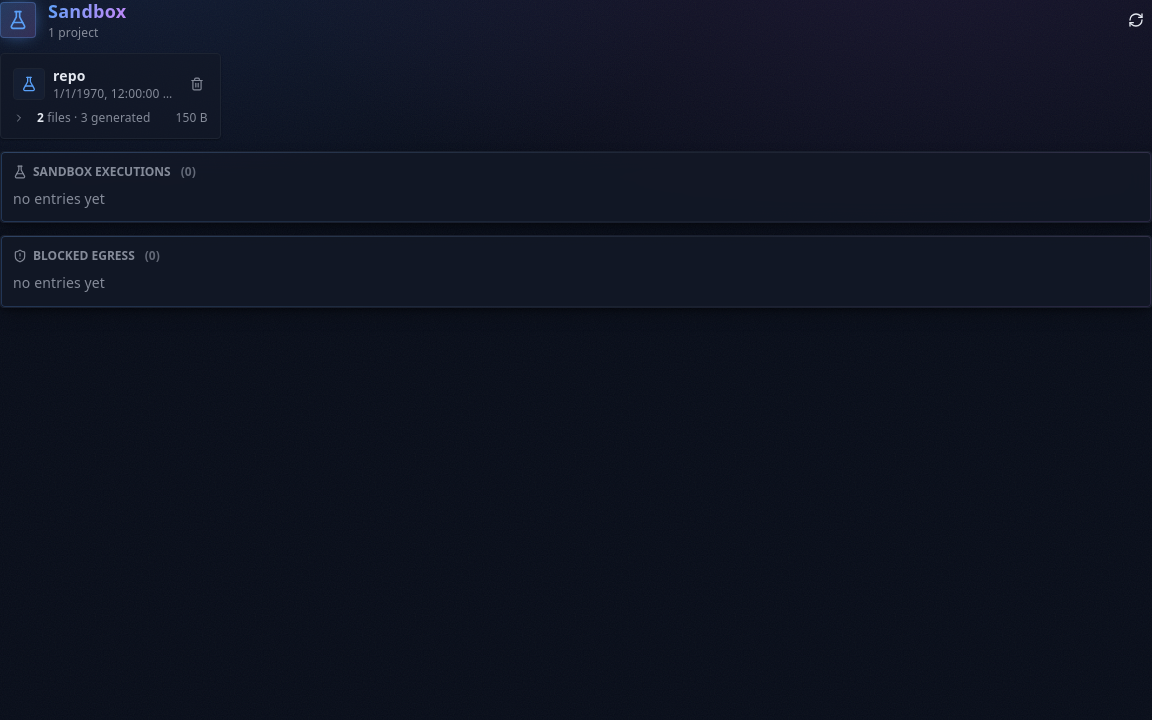
Test: Sandbox file browser › filters the file list
Click the button "repo" at {"x": 115, "y": 76}, box [53,66,178,86]
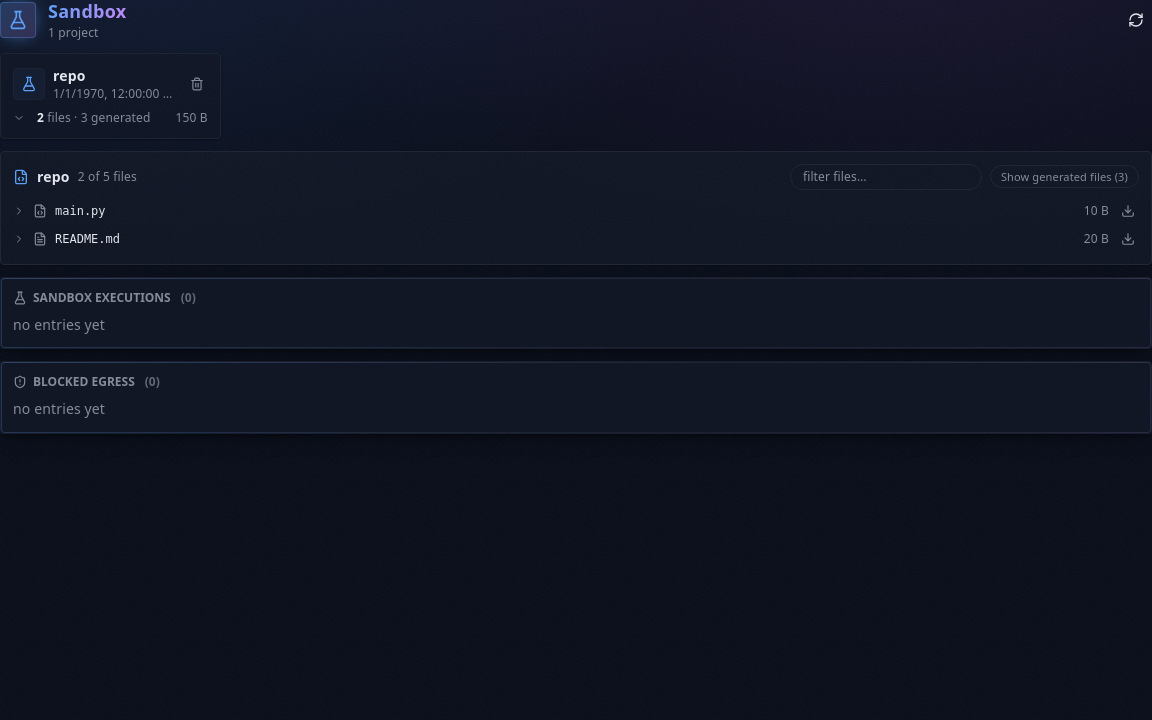
expect the text "main.py" is shown: met, box [55,202,106,218]
Type "readme" into the field labelled "filter files" at {"x": 886, "y": 176}, box [790,164,982,190]
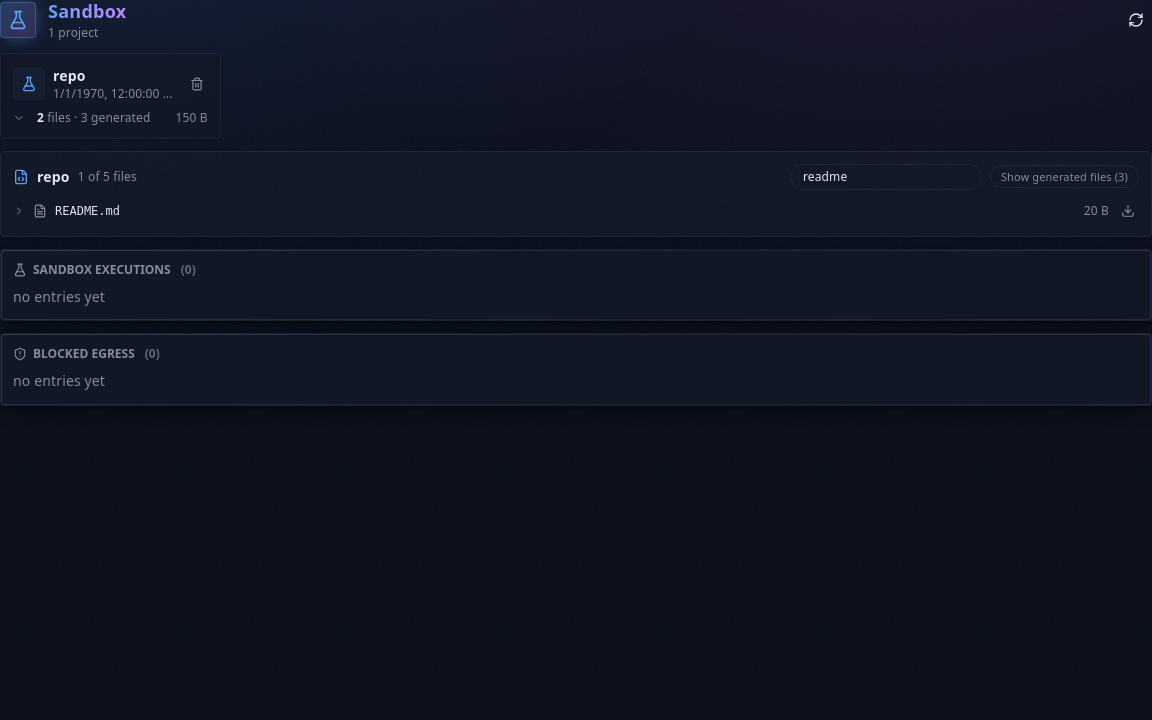
expect the text "README.md" is shown: met, box [55,202,120,218]
expect the button "main.py" is gone: met
